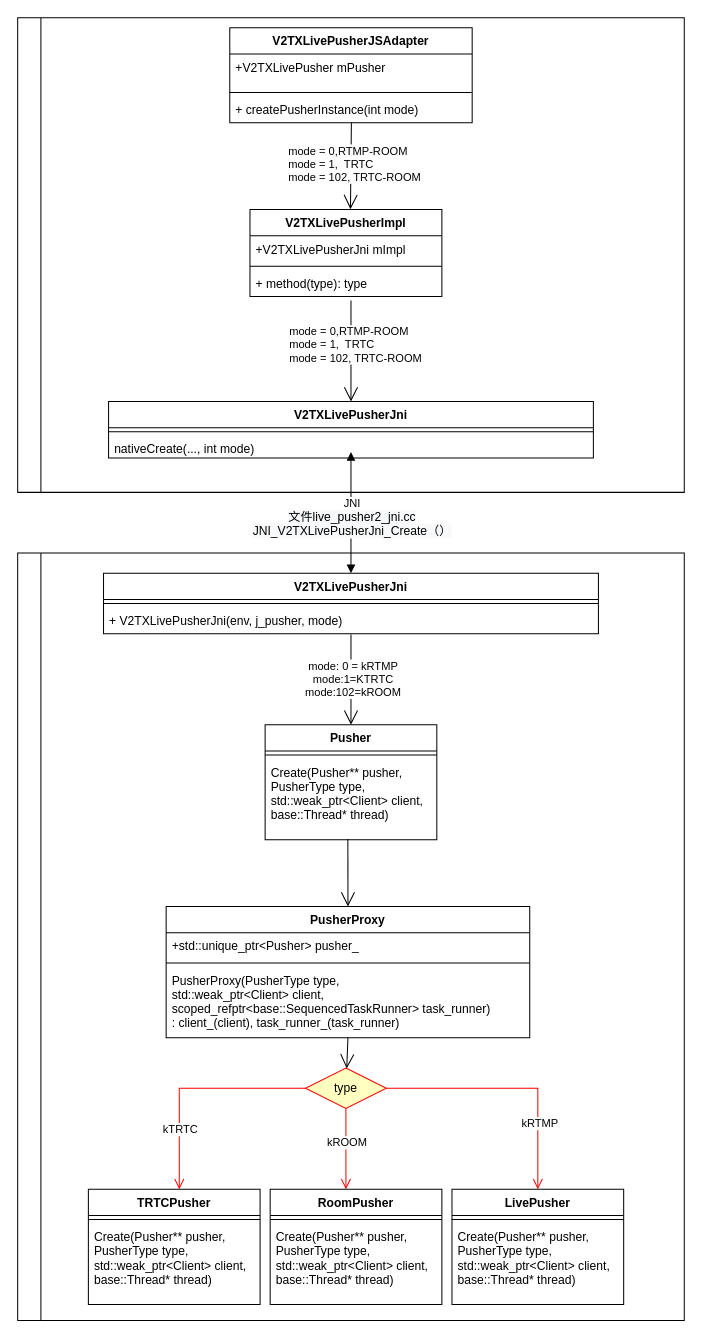
Some shapes in this 702 by 1338 pixel diagram are drawn without their labels. The shapes that lost their labels are listed below. From the top down, each one's centre as x and y in pixels, then its label:
At point (350, 254): "JAVA".
At point (350, 936): "C++".
